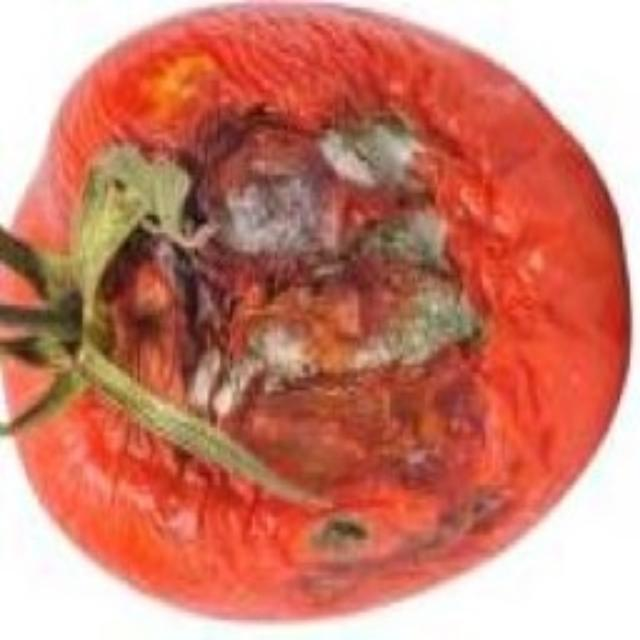defect: (0, 2, 634, 619)
